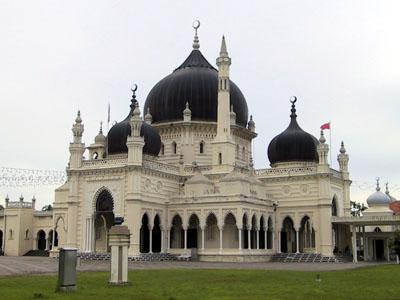Mosque: (42, 20, 355, 274)
